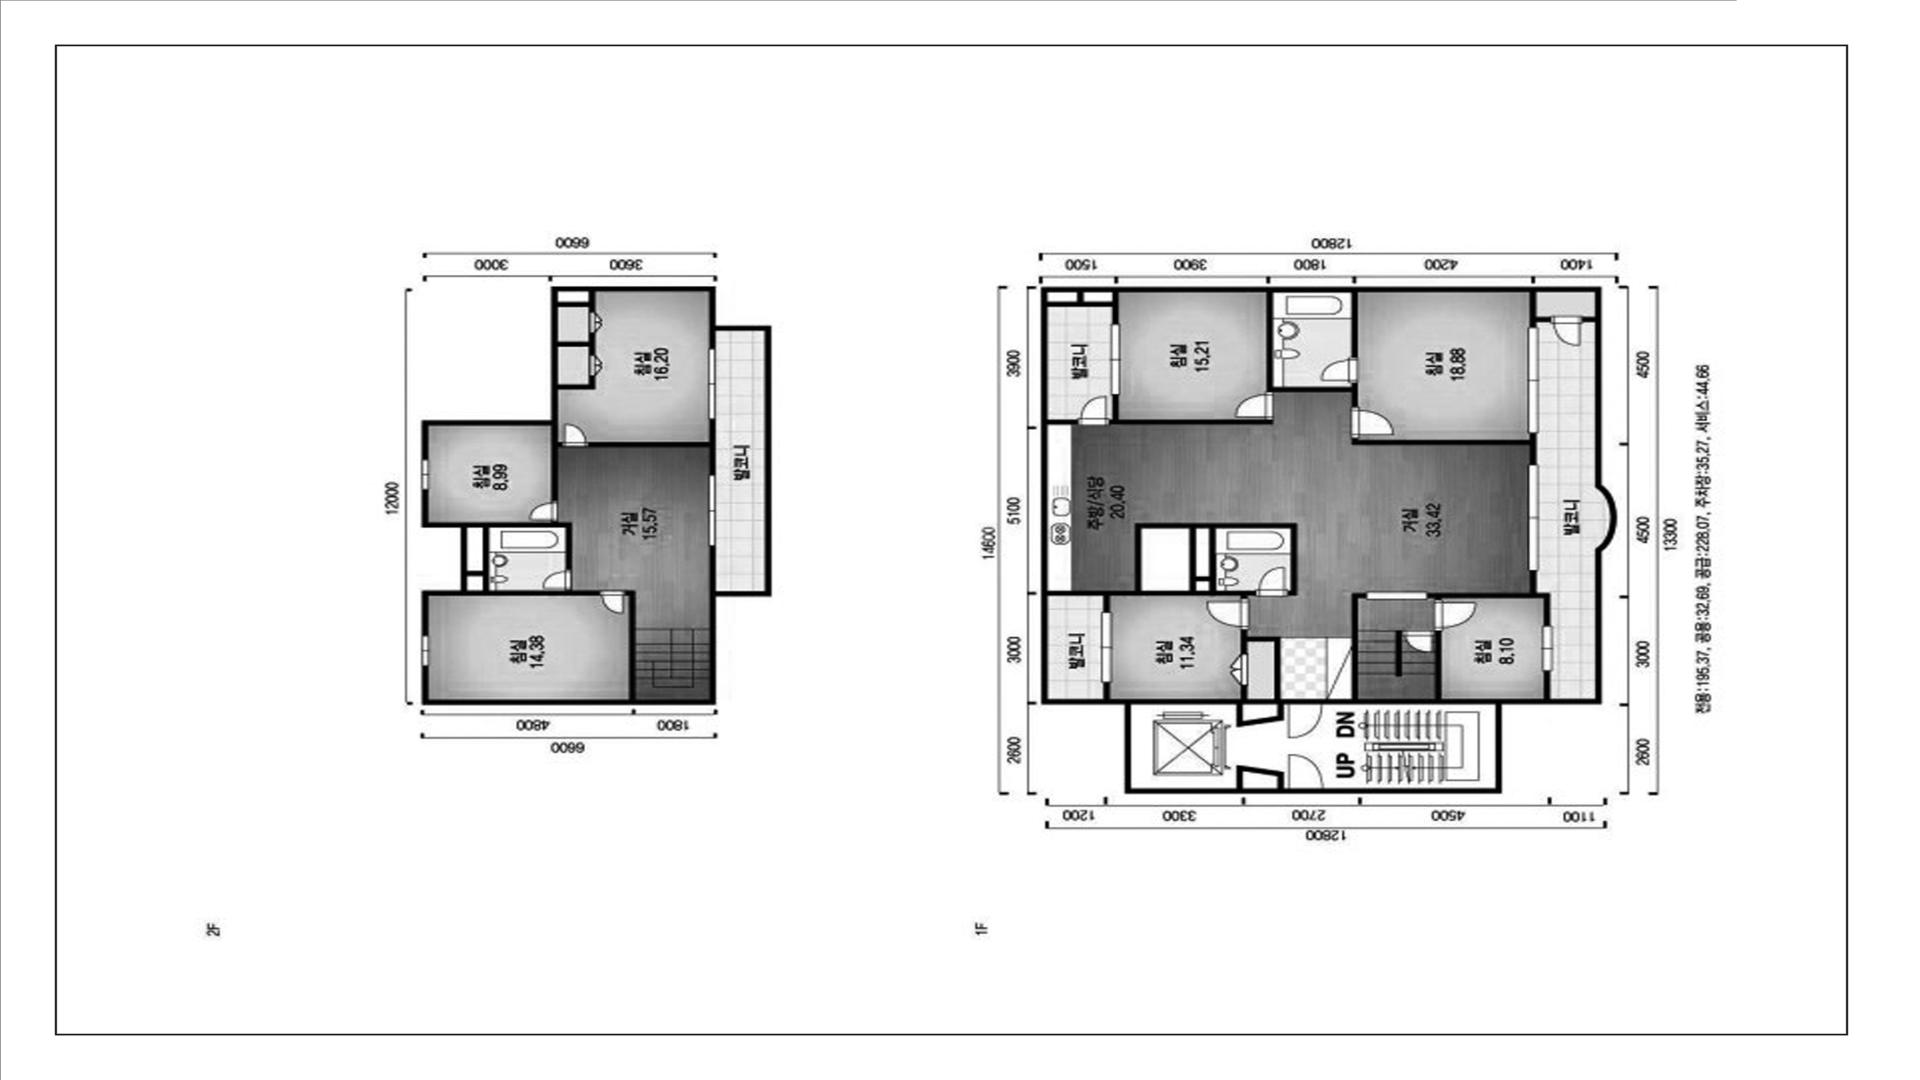door: (1288, 754, 1325, 794), (1287, 699, 1323, 740), (1205, 599, 1250, 630), (1350, 406, 1394, 438), (1435, 600, 1477, 630), (1234, 392, 1274, 419), (1320, 357, 1358, 384), (1549, 316, 1582, 347), (1255, 567, 1288, 596), (1077, 396, 1109, 425), (1402, 630, 1435, 651), (562, 422, 588, 448), (527, 501, 558, 524), (599, 591, 625, 616), (542, 570, 572, 591), (1366, 591, 1428, 600)
wall: (1040, 286, 1617, 794), (421, 286, 771, 705), (1047, 524, 1298, 612), (1323, 593, 1495, 704), (1131, 630, 1287, 727), (1266, 293, 1358, 407), (465, 524, 599, 596), (588, 419, 716, 475), (421, 489, 467, 637), (1427, 571, 1549, 626), (1352, 434, 1536, 464), (1110, 394, 1273, 425), (1137, 529, 1189, 591), (1047, 291, 1118, 324), (625, 591, 636, 699), (1237, 765, 1284, 789), (550, 426, 562, 501), (558, 334, 595, 355), (558, 291, 595, 313), (1530, 291, 1551, 327), (1242, 704, 1278, 721), (558, 376, 595, 389), (1352, 291, 1357, 357), (709, 546, 716, 591), (1543, 671, 1549, 699), (1047, 419, 1077, 425), (709, 331, 715, 349), (1582, 316, 1596, 323), (1104, 683, 1109, 699)
window: (1527, 327, 1539, 434), (1527, 465, 1539, 571), (1101, 612, 1113, 683), (1110, 324, 1121, 396), (708, 475, 716, 546), (708, 349, 716, 419), (1542, 625, 1552, 671), (421, 636, 429, 666), (421, 460, 429, 489)
